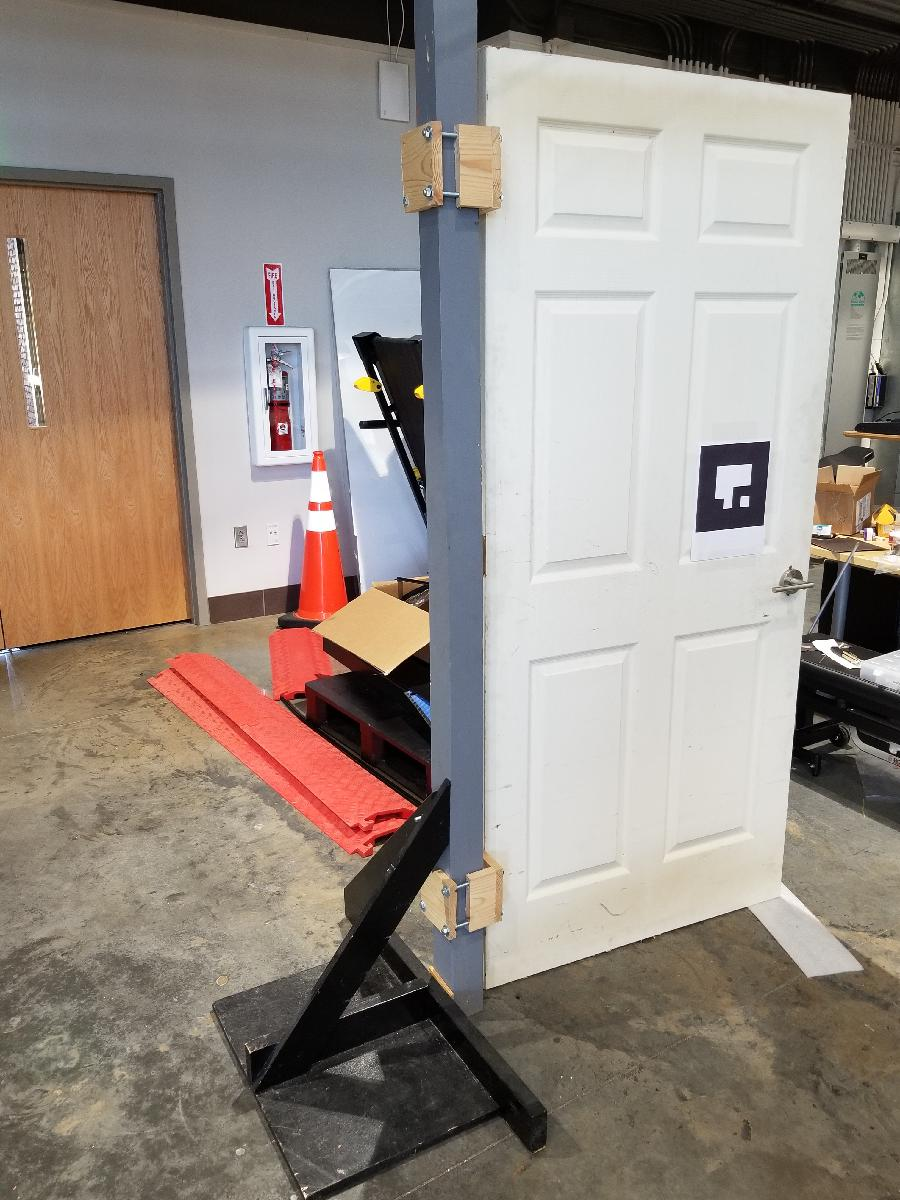door: (469, 40, 856, 994)
doorHandle: (768, 567, 824, 605)
